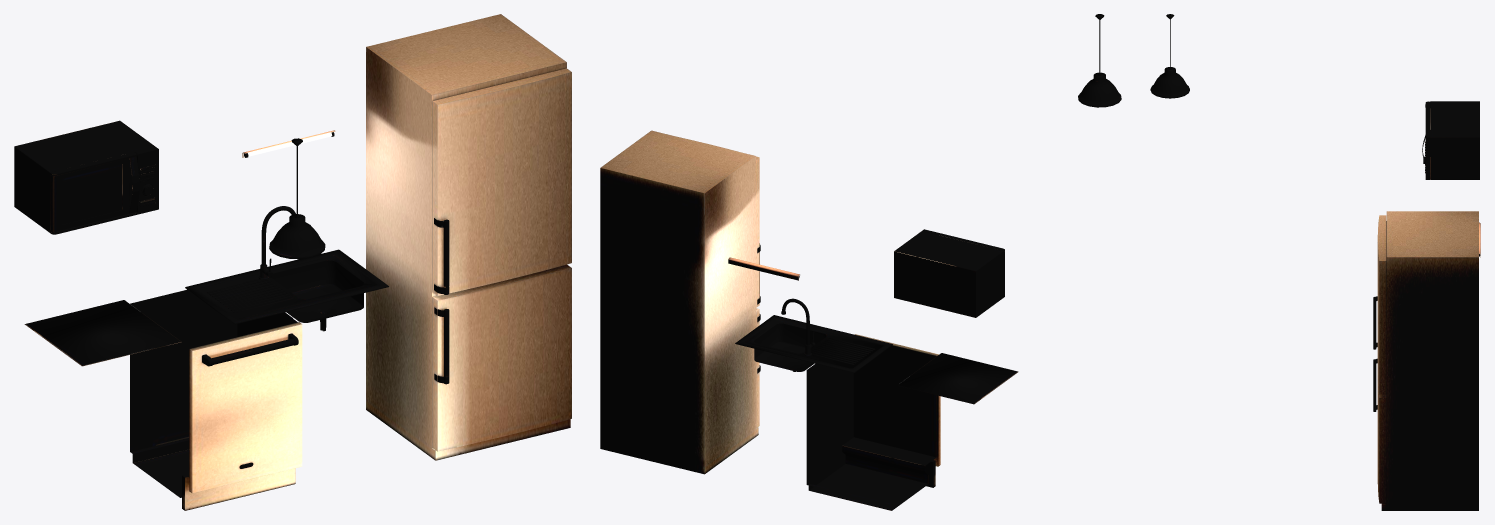
Rendered from SM_LivR_F2.glb.
The picture shows the model from 3 angles, left to right: view 1: azimuth 30°, elevation 25°; view 2: azimuth 150°, elevation 25°; view 3: azimuth 270°, elevation 25°; orthographic projection. The views are drawn at different scales.
Visible parts, largest first — view 1: SM_LivR_F2; view 2: SM_LivR_F2; view 3: SM_LivR_F2.
Boxes of the visible parts, x1=… form: SM_LivR_F2: x1=14, y1=14, x2=571, y2=510; SM_LivR_F2: x1=600, y1=14, x2=1121, y2=510; SM_LivR_F2: x1=1150, y1=14, x2=1480, y2=510.
Bounding box in the file's own units: 2.52 × 2.49 × 2.12.
1 material, 1 textured.
